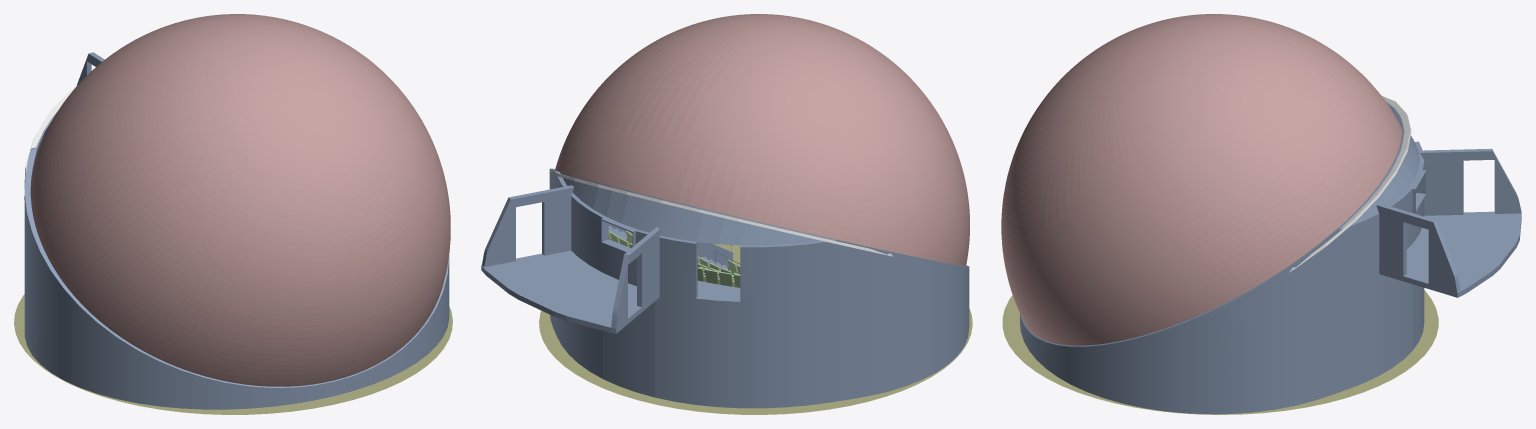
Rendered from wisdome.glb.
3 renders of one model, left to right at view 1: azimuth 30°, elevation 25°; view 2: azimuth 150°, elevation 25°; view 3: azimuth 270°, elevation 25°, orthographic.
Visible parts, largest first — view 1: Screen, Main_Structure, Floor, LED_Rim; view 2: Main_Structure, Screen, Floor, LED_Rim, Chairs; view 3: Screen, Main_Structure, Floor, LED_Rim.
Boxes of the visible parts, x1,y1,x2,y2 form: Screen: [30, 14, 450, 386]; Main_Structure: [24, 52, 449, 409]; Floor: [14, 294, 452, 414]; LED_Rim: [24, 86, 76, 202]; Main_Structure: [481, 168, 969, 408]; Screen: [555, 14, 969, 265]; Floor: [539, 243, 972, 414]; LED_Rim: [549, 171, 893, 256]; Chairs: [608, 230, 740, 287]; Screen: [1001, 14, 1401, 345]; Main_Structure: [1020, 102, 1521, 414]; Floor: [1002, 290, 1438, 414]; LED_Rim: [1289, 96, 1411, 272].
Size of the model in its own units: 15.4 by 11.25 by 18.35.
